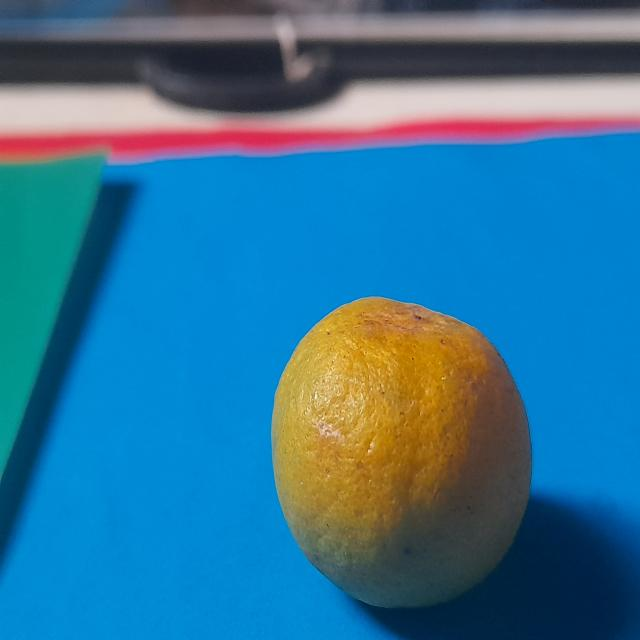greening: (264, 288, 542, 625)
